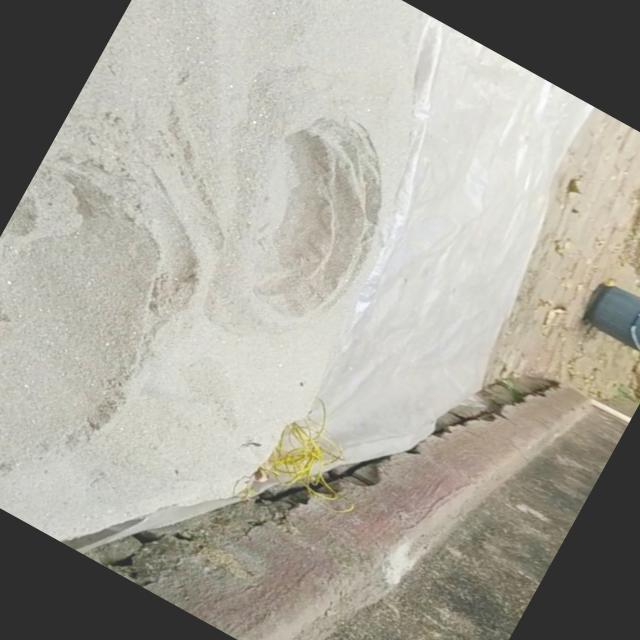C20: (0, 168, 161, 483), (239, 120, 380, 314)
